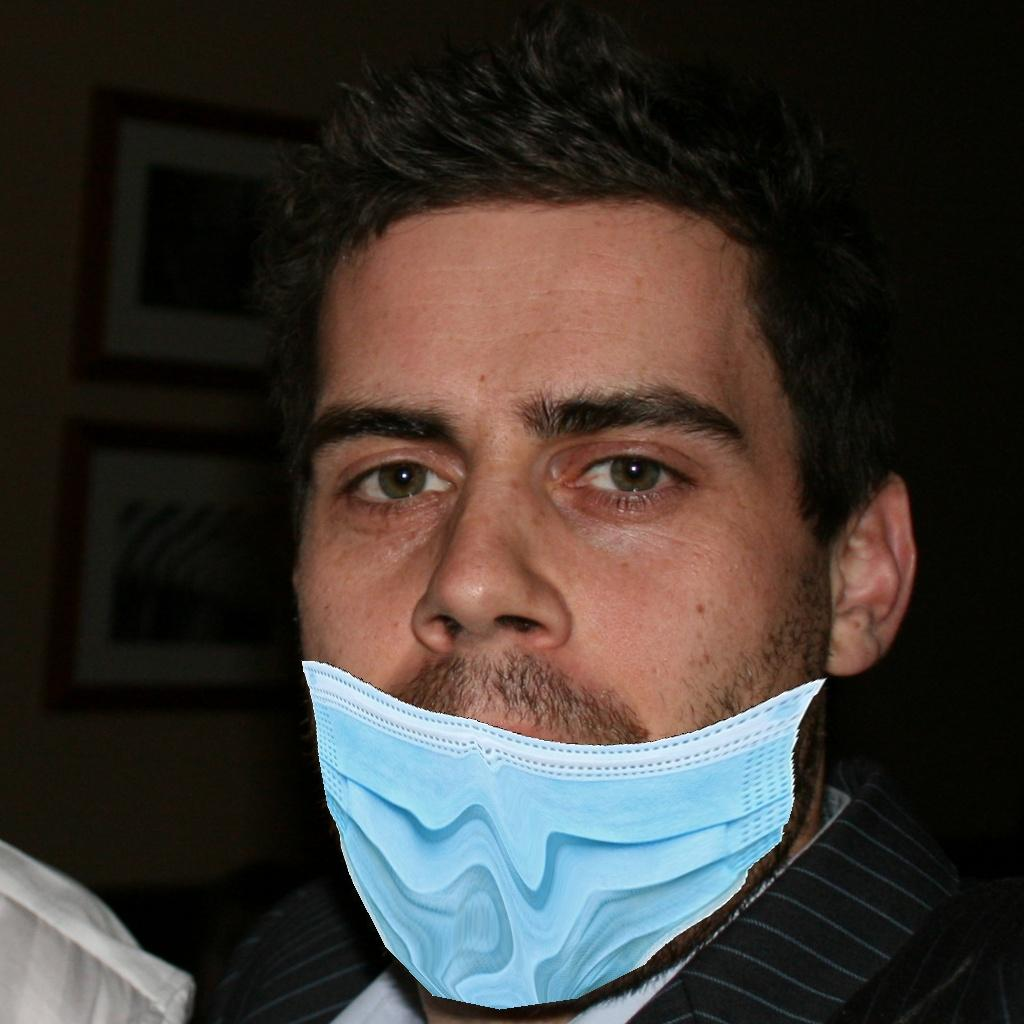Máscara Incorreta: (236, 229, 825, 949)
